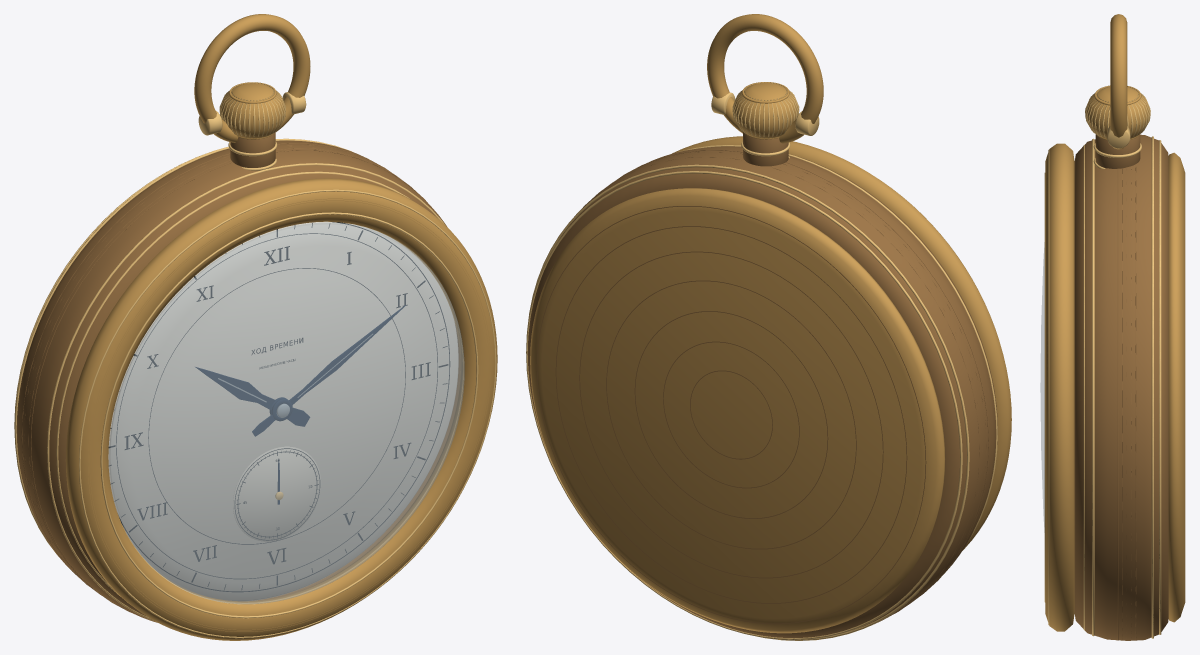
Rendered from gallery-watch.glb.
The picture shows the model from 3 angles, left to right: view 1: azimuth 30°, elevation 25°; view 2: azimuth 150°, elevation 25°; view 3: azimuth 270°, elevation 25°; orthographic projection.
Visible parts, largest first — view 1: Optical crystal, Ivory vitreous enamel, Satin brass, Warm aged case, Polished brass edges, Recessed seconds enamel, Charcoal dial printing, Blued steel hands; view 2: Satin brass, Warm aged case, Polished brass edges; view 3: Warm aged case, Satin brass, Polished brass edges, Optical crystal.
Boxes of the visible parts, x1=… form: Optical crystal: x1=109, y1=222, x2=464, y2=604; Ivory vitreous enamel: x1=108, y1=221, x2=458, y2=601; Satin brass: x1=65, y1=14, x2=497, y2=640; Warm aged case: x1=16, y1=132, x2=460, y2=622; Polished brass edges: x1=14, y1=82, x2=496, y2=638; Recessed seconds enamel: x1=233, y1=446, x2=321, y2=541; Charcoal dial printing: x1=108, y1=222, x2=450, y2=592; Blued steel hands: x1=195, y1=305, x2=405, y2=504; Satin brass: x1=530, y1=14, x2=1011, y2=633; Warm aged case: x1=527, y1=132, x2=997, y2=638; Polished brass edges: x1=526, y1=82, x2=997, y2=640; Warm aged case: x1=1074, y1=134, x2=1168, y2=640; Satin brass: x1=1045, y1=14, x2=1185, y2=631; Polished brass edges: x1=1044, y1=86, x2=1161, y2=638; Optical crystal: x1=1040, y1=242, x2=1044, y2=532.
Size of the model in its own units: 2.83 by 3.68 by 0.8089.
